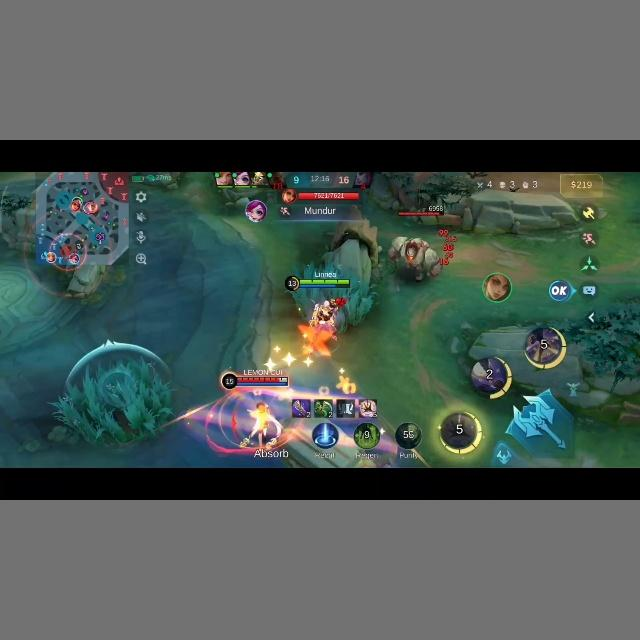hp_enemy: (220, 370, 294, 390), (298, 189, 362, 198), (396, 209, 442, 217)
hp_self: (296, 276, 356, 289)
